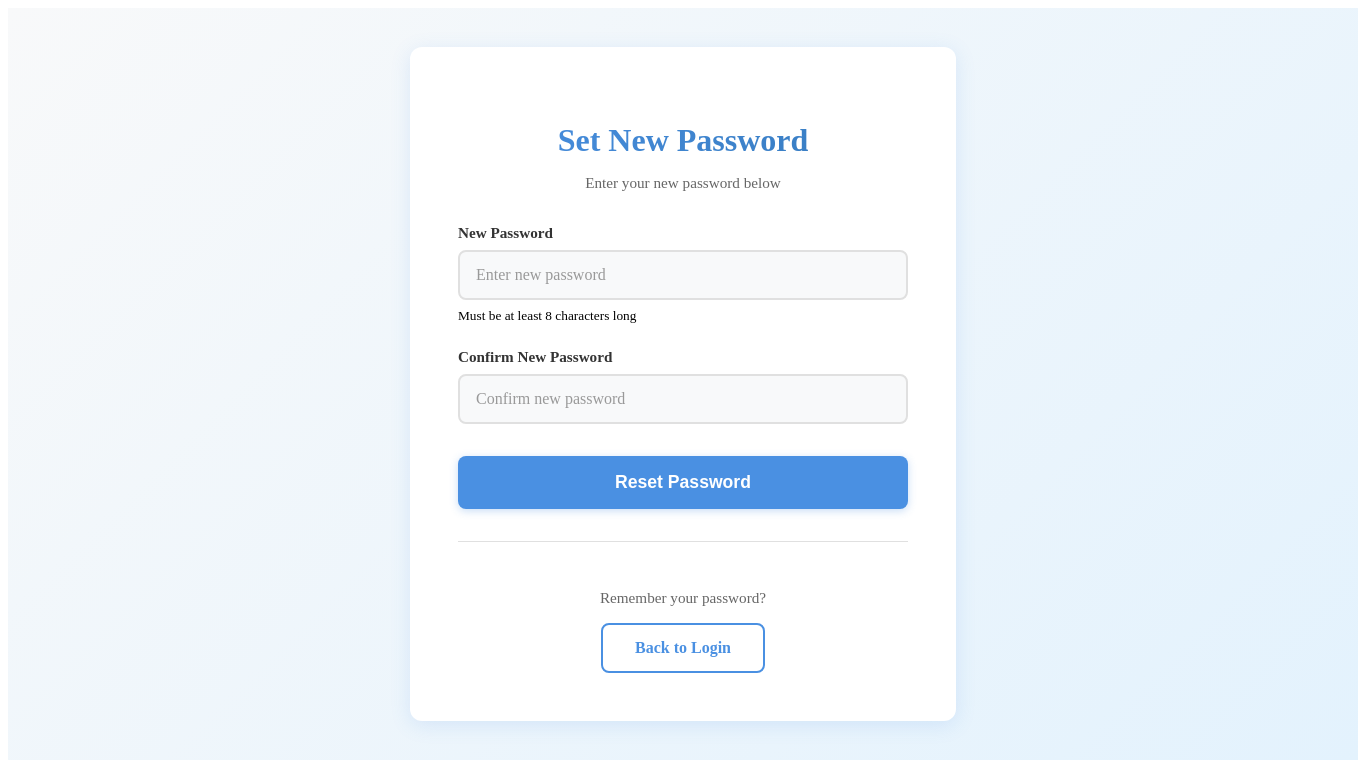
Scenario: PasswordResetConfirmPage › Form Validation › shows error when passwords do not match
Type "newpassword123" into the password field with placeholder "Enter new password". click: coordinates (683, 275)
box: [458,250,908,300]
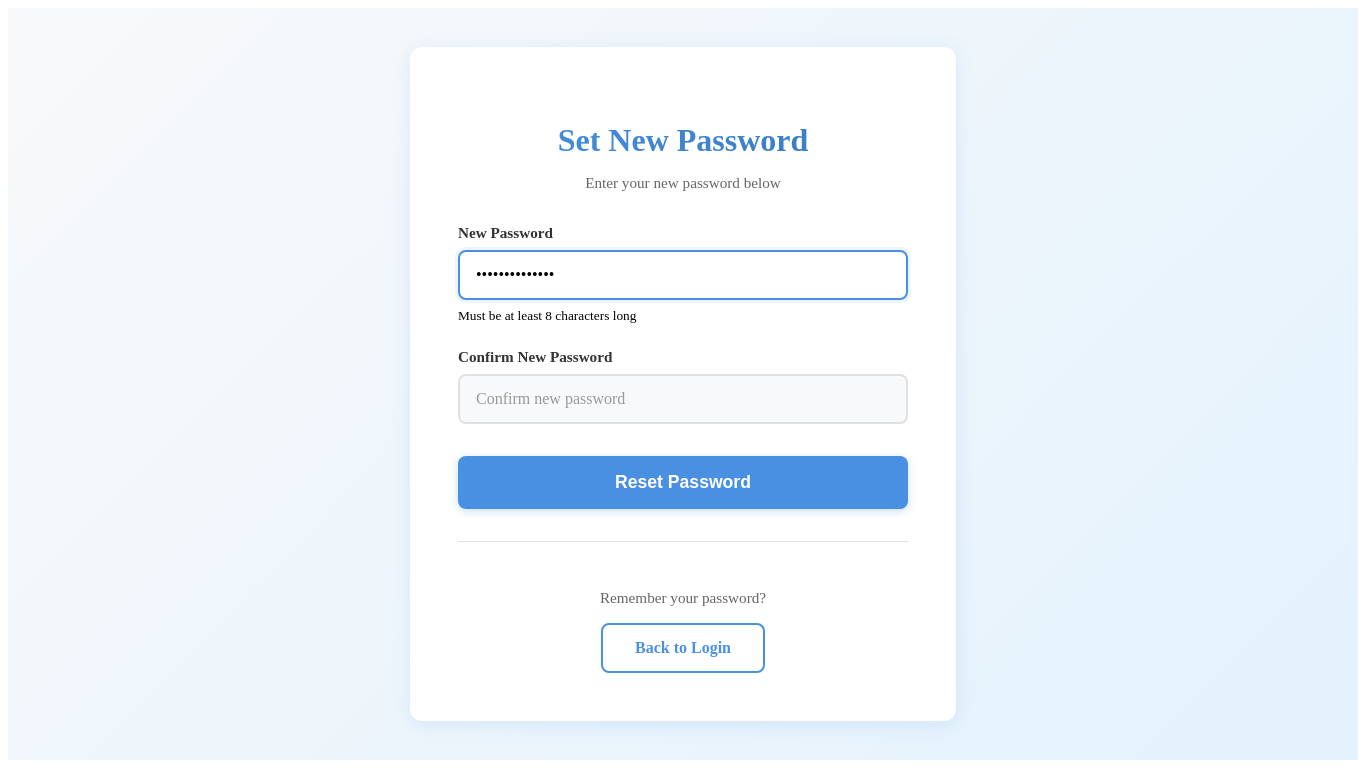
Type "differentpassword" into the password field with placeholder "Confirm New Password". click: coordinates (683, 399)
box: [458,374,908,424]
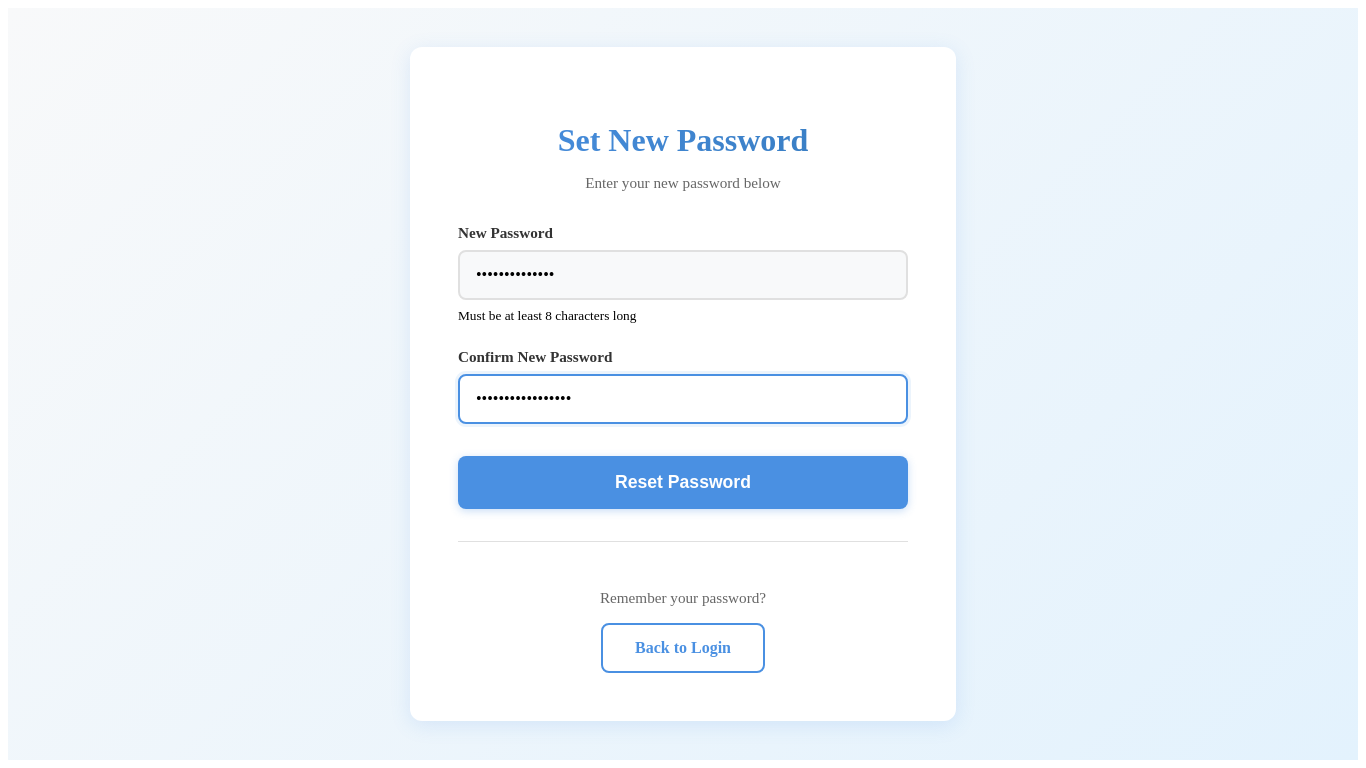
Click the button "Reset Password". click: coordinates (683, 482)
box: [458,456,908,509]
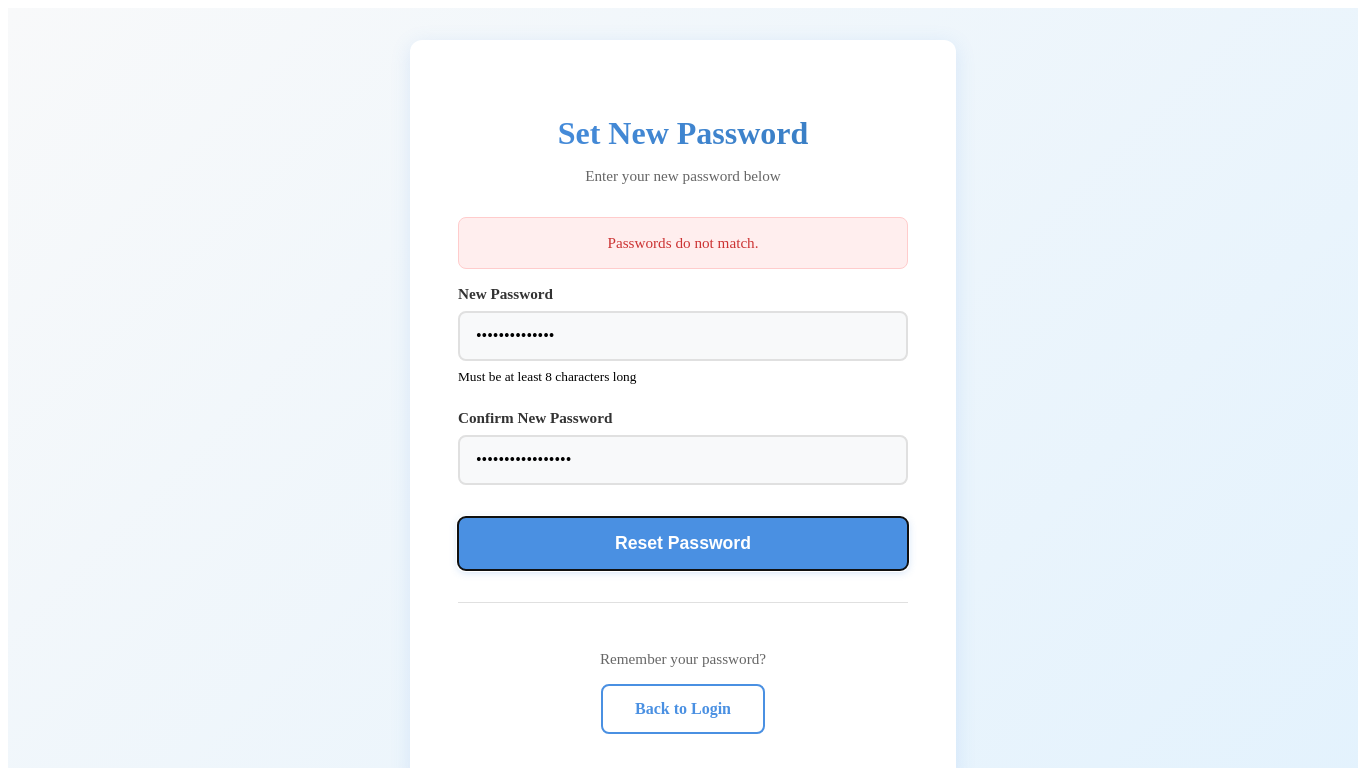
Now the text "Passwords do not match." is shown, box [458,217,908,269]
